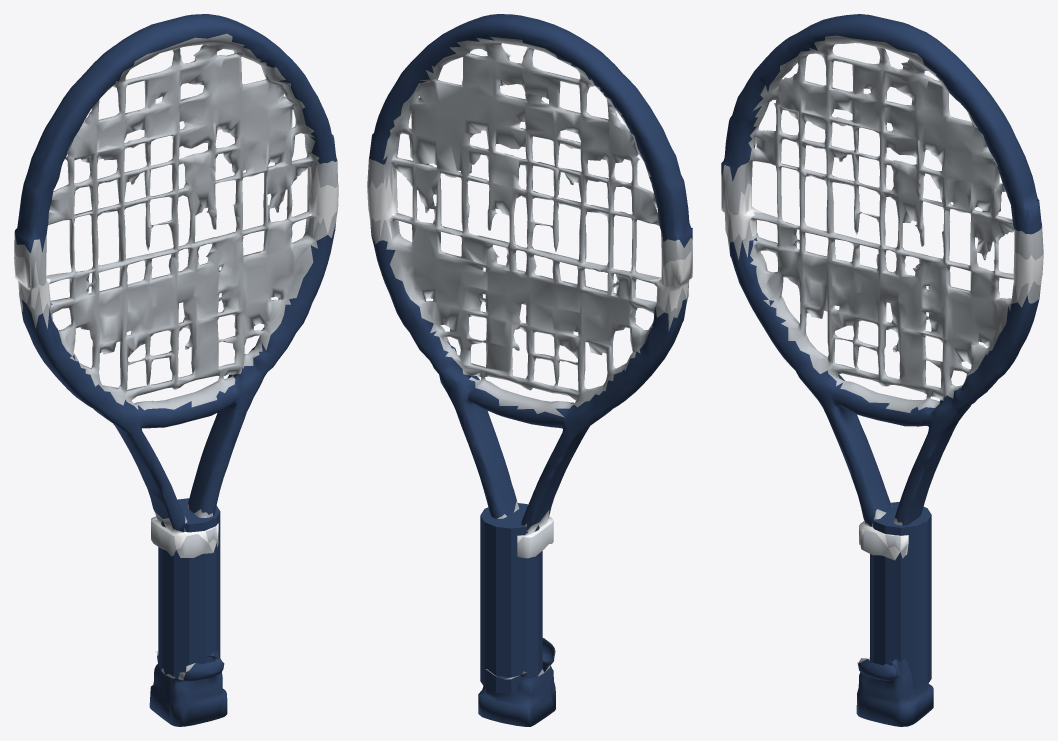
File: racket-original.glb
3 renders of one model, left to right at view 1: azimuth 30°, elevation 25°; view 2: azimuth 150°, elevation 25°; view 3: azimuth 330°, elevation 25°, orthographic.
Visible parts, largest first — view 1: Racket; view 2: Racket; view 3: Racket.
Part boxes in pixels (x1=…): Racket: x1=14, y1=14, x2=338, y2=726; Racket: x1=367, y1=14, x2=692, y2=726; Racket: x1=721, y1=14, x2=1043, y2=726.
Bounding box in the file's own units: 0.2696 × 0.5659 × 0.0598.
